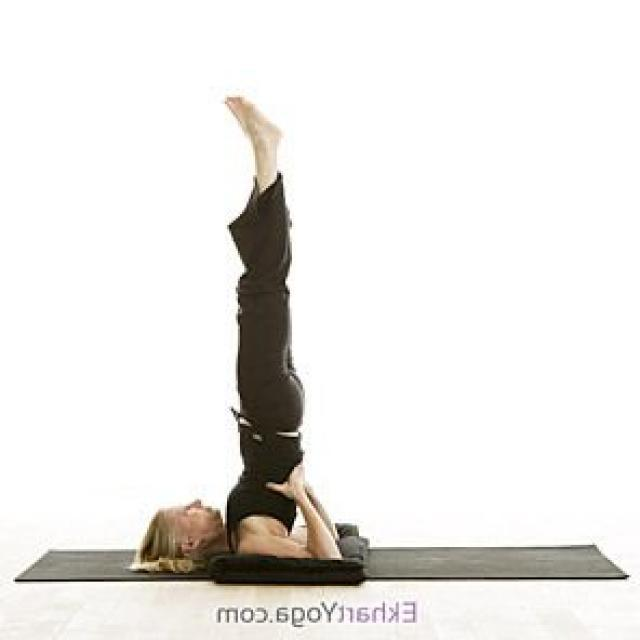yoga-pose shoulderstand: (147, 89, 350, 574)
